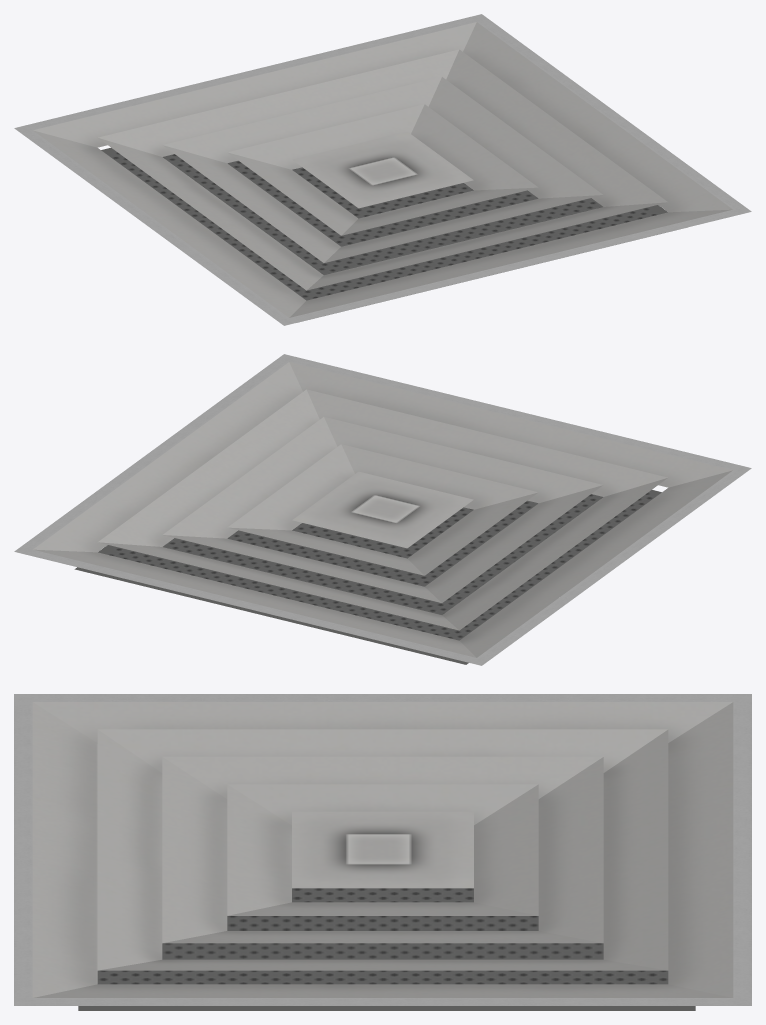
File: ceiling vent.FBX
3 views of the same model, one above another, from view 1: azimuth 30°, elevation 25°; view 2: azimuth 150°, elevation 25°; view 3: azimuth 270°, elevation 25° (orthographic). The views are drawn at different scales.
Parts seen in each view (by area): view 1: ceiling vent; view 2: ceiling vent; view 3: ceiling vent.
Boxes of the visible parts, x1,y1,x2,y2 form: ceiling vent: (14,14,751,325); ceiling vent: (14,354,751,665); ceiling vent: (14,694,751,1010).
Size of the model in its own units: 27.5 by 27.5 by 1.29.
